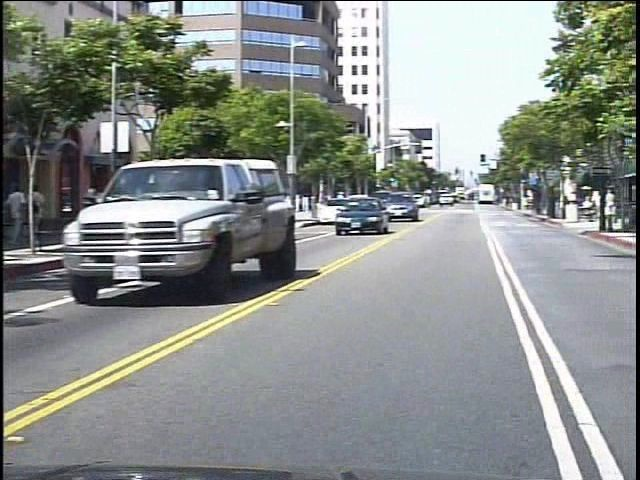person: (14, 180, 39, 245), (34, 182, 56, 246)
